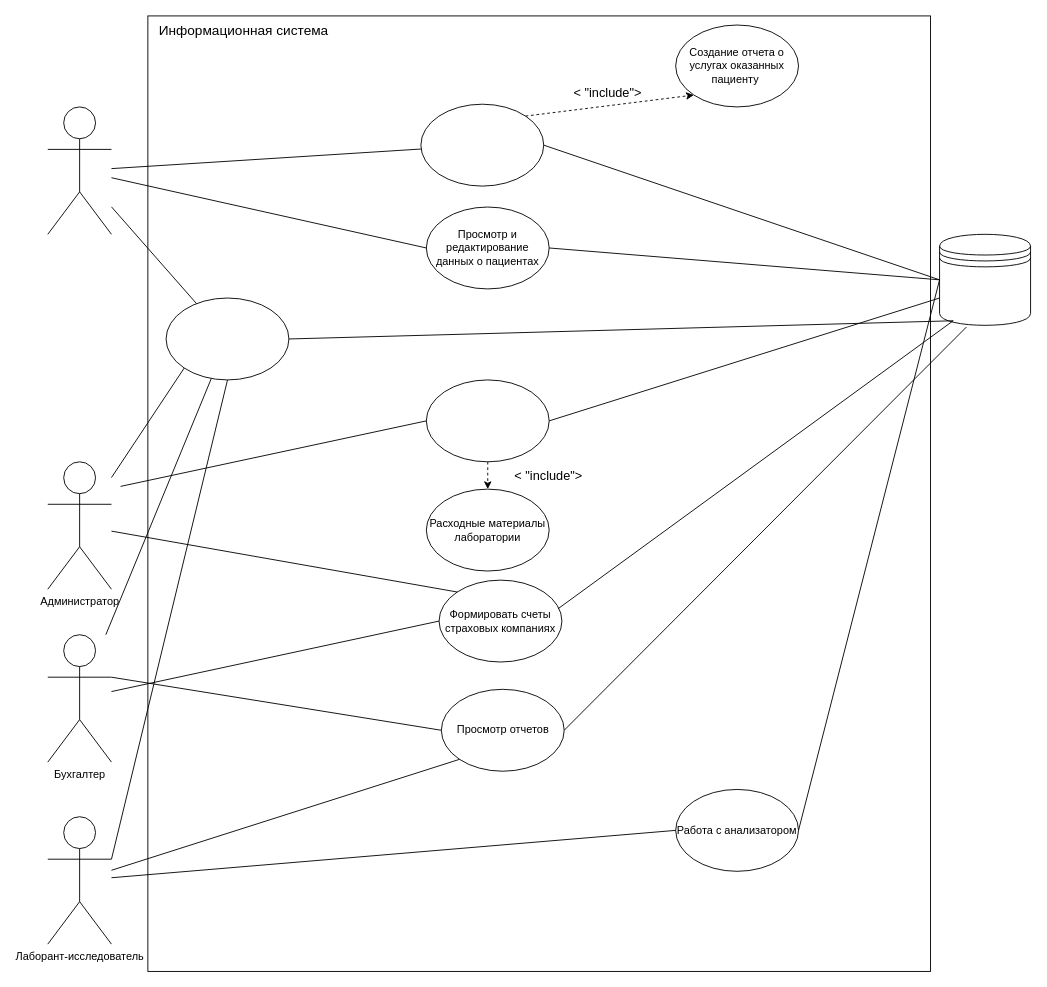
Image size: 1047x987. Some labels were removed from this diagram. Each missing label, with the box of its shape:
Авторизация: (165, 297, 289, 380)
База данных: (939, 233, 1031, 325)
Занесение данных о анализах пациентов: (420, 103, 544, 186)
Лаборант: (47, 106, 111, 234)
Просмотр данных пользователей системы: (425, 379, 549, 462)
